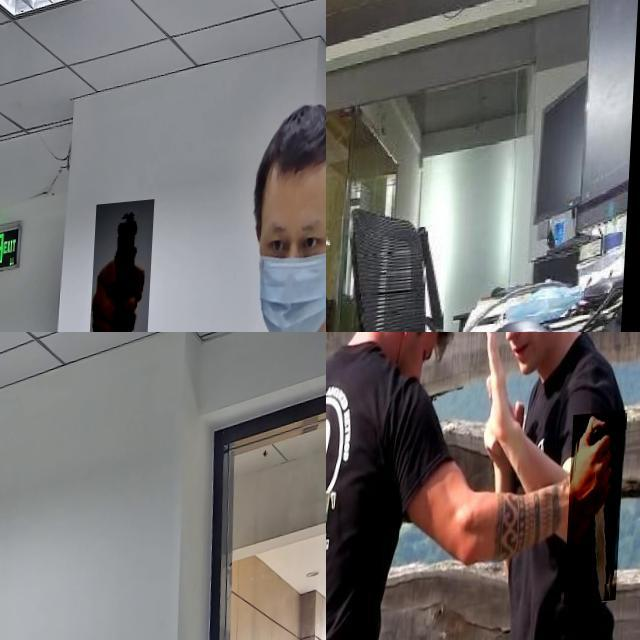-: (569, 421, 629, 615)
gun-knife-thesis - v11 Yolov5 augmented: (93, 204, 158, 332), (0, 372, 40, 565)
